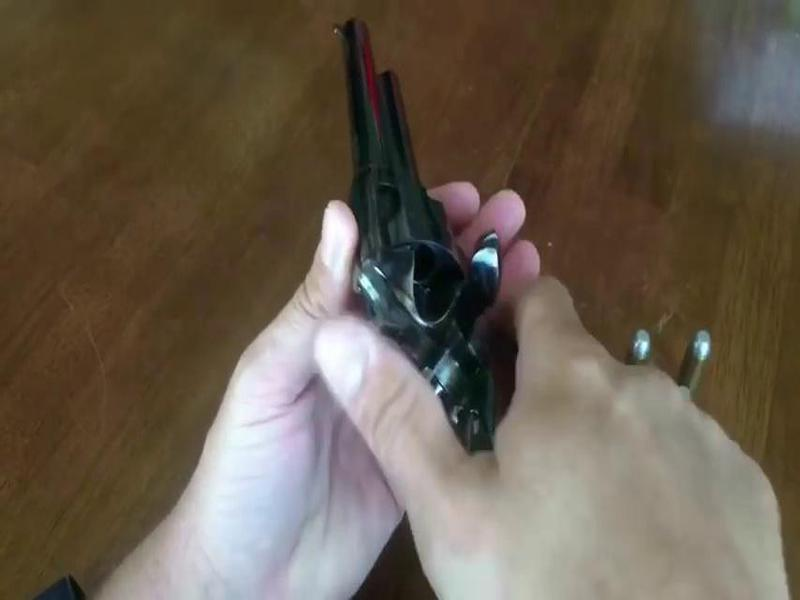Revolver: (288, 12, 533, 444)
